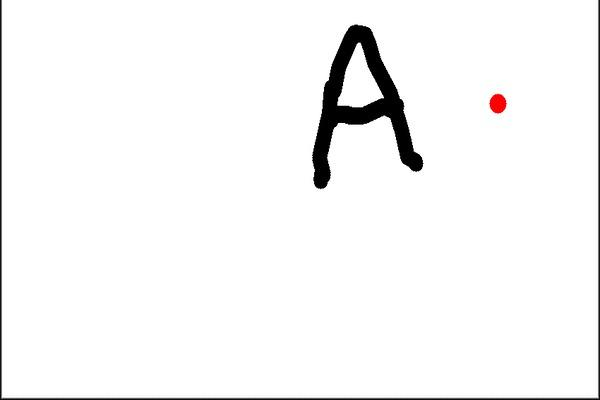A: (306, 20, 428, 193)
